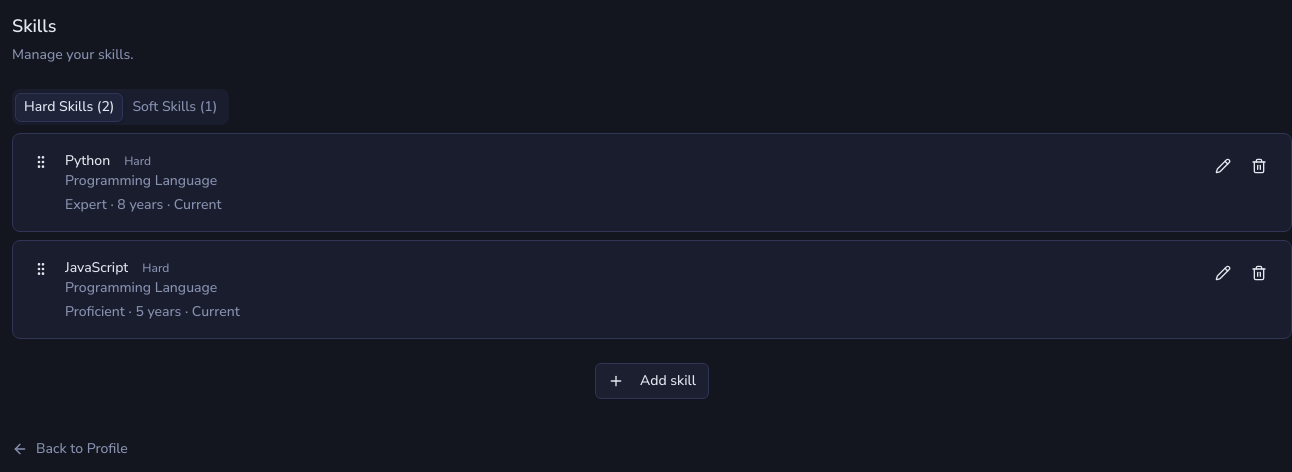
Scenario: SkillsEditor › tabs › switches to soft skills tab
Step 1. Click the tab "Soft Skills (1)" → (175, 107), box [123,92,226,122]
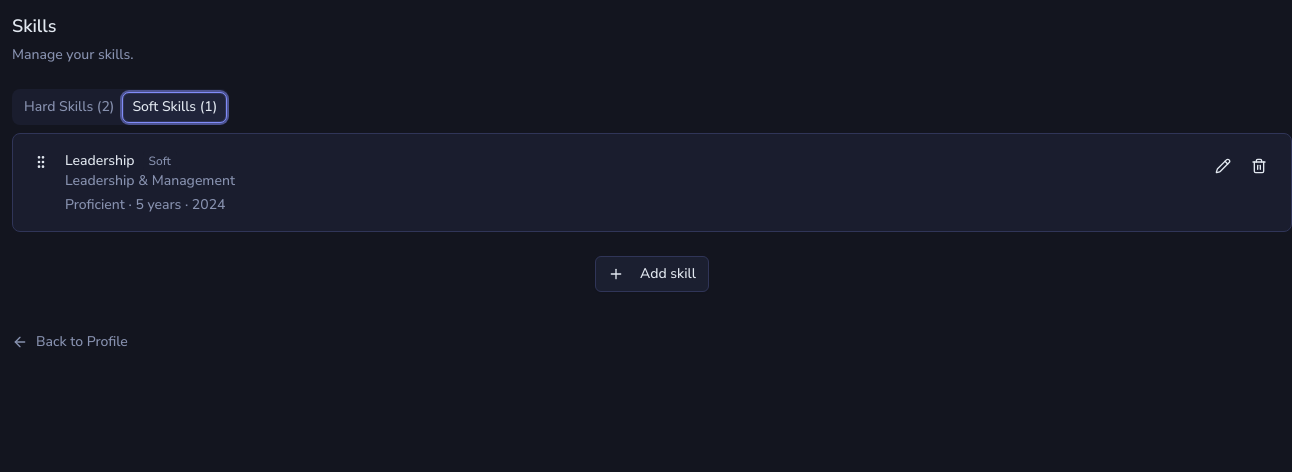
Expected: the heading "Leadership" is shown, [65,150,135,171]
Expected: the heading "Python" is gone
